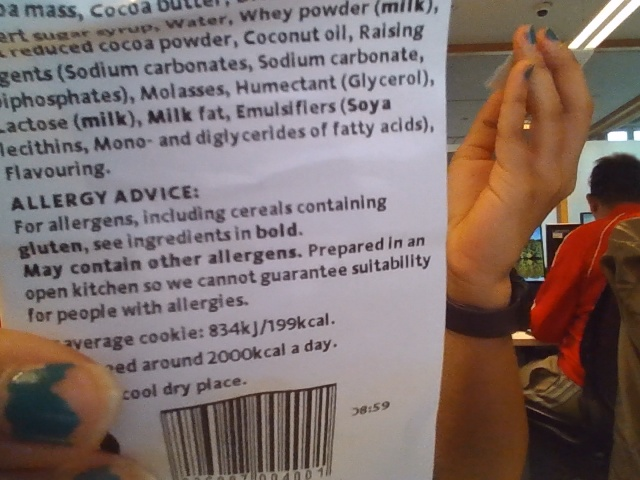milk: (146, 107, 196, 127), (80, 110, 129, 129)
